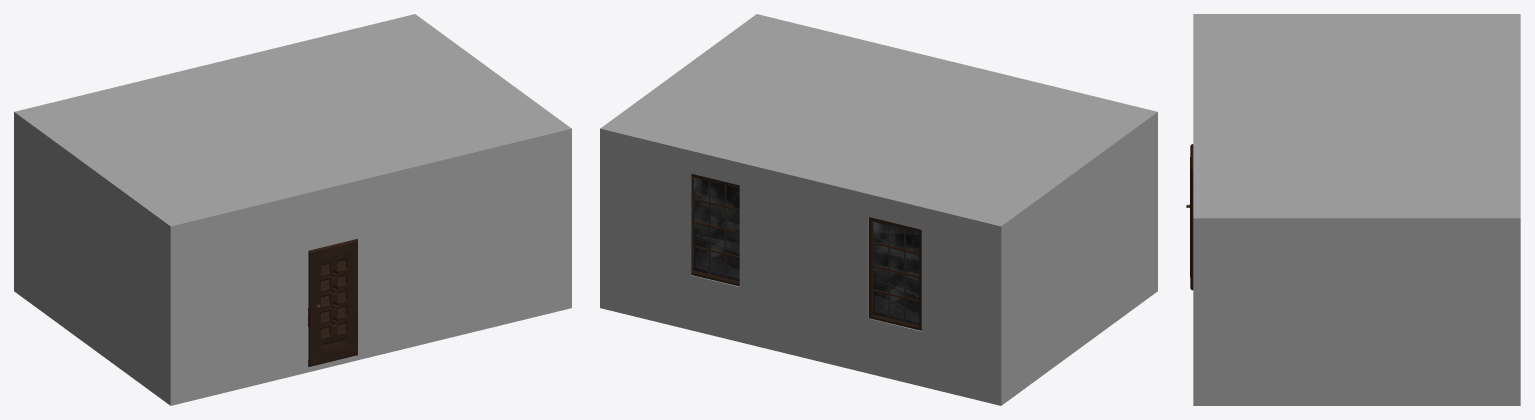
File: lobolatory.fbx
3 views of the same model, side by side, from view 1: azimuth 30°, elevation 25°; view 2: azimuth 150°, elevation 25°; view 3: azimuth 270°, elevation 25° (orthographic). The views are drawn at different scales.
Parts seen in each view (by area): view 1: pCube38, ceiling, pCube37, pCube36; view 2: pCube38, ceiling, pCube37, pPlane1, office1:pPlane1, pCube10, office1:pCube10; view 3: ceiling, pCube38, pCube37, pCube36.
Part boxes in pixels (x1,y1,x2,y2): pCube38: [14, 118, 571, 394]; ceiling: [14, 14, 571, 232]; pCube37: [14, 251, 571, 405]; pCube36: [308, 239, 357, 366]; pCube38: [600, 118, 1157, 394]; ceiling: [600, 14, 1157, 232]; pCube37: [600, 280, 1157, 405]; pPlane1: [873, 221, 919, 325]; office1:pPlane1: [694, 177, 739, 281]; pCube10: [869, 217, 921, 330]; office1:pCube10: [691, 173, 739, 286]; ceiling: [1193, 14, 1520, 225]; pCube38: [1193, 225, 1520, 394]; pCube37: [1193, 393, 1520, 405]; pCube36: [1186, 144, 1192, 290].
Size of the model in its own units: 60.61 by 25.92 by 41.91.
